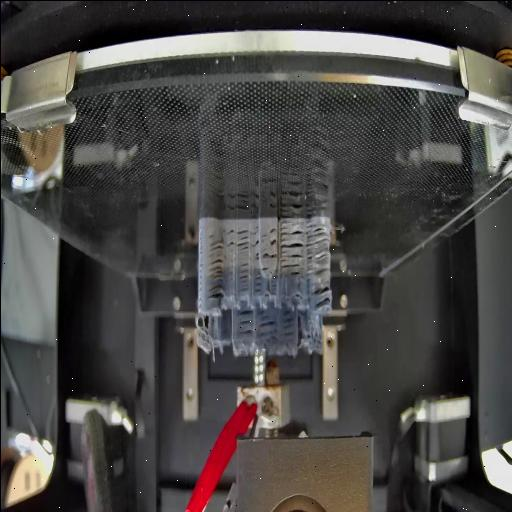cracks: (304, 221, 331, 310), (205, 238, 223, 302), (280, 220, 302, 258), (224, 225, 249, 255), (235, 308, 252, 338), (256, 312, 276, 336), (237, 259, 249, 293), (278, 260, 298, 277), (280, 310, 292, 335), (251, 224, 259, 260), (269, 271, 277, 297), (260, 250, 278, 260), (252, 272, 260, 294), (269, 224, 277, 244), (259, 264, 269, 272)
